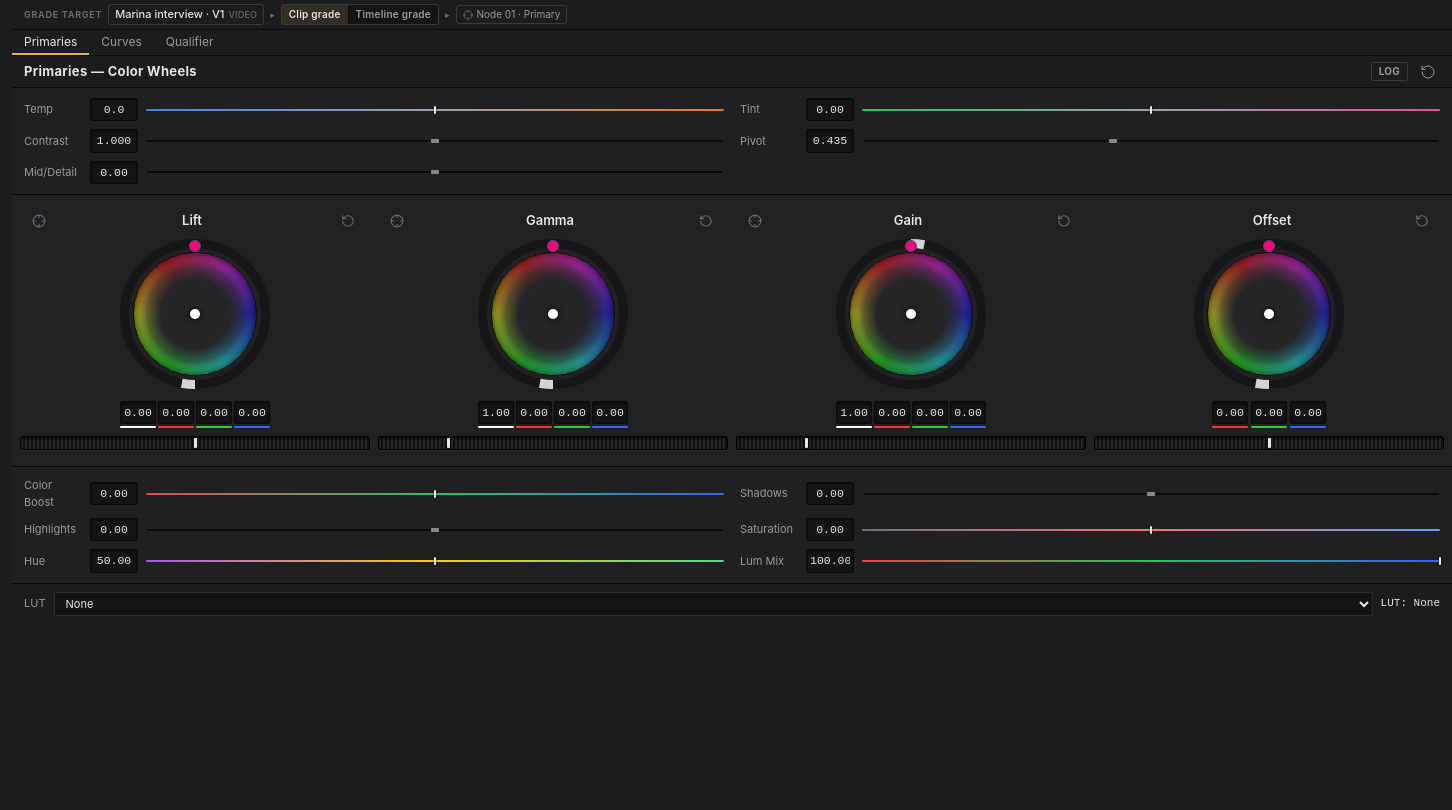
Test: ColorInspector — the tab bar (the #78 directive) › clicking a tab writes colorInspectorTab + swaps the panel
Click the tab with test id "shell-color-inspector-tab-curves". click: (122, 42)
box: left=89, top=30, right=154, bottom=55
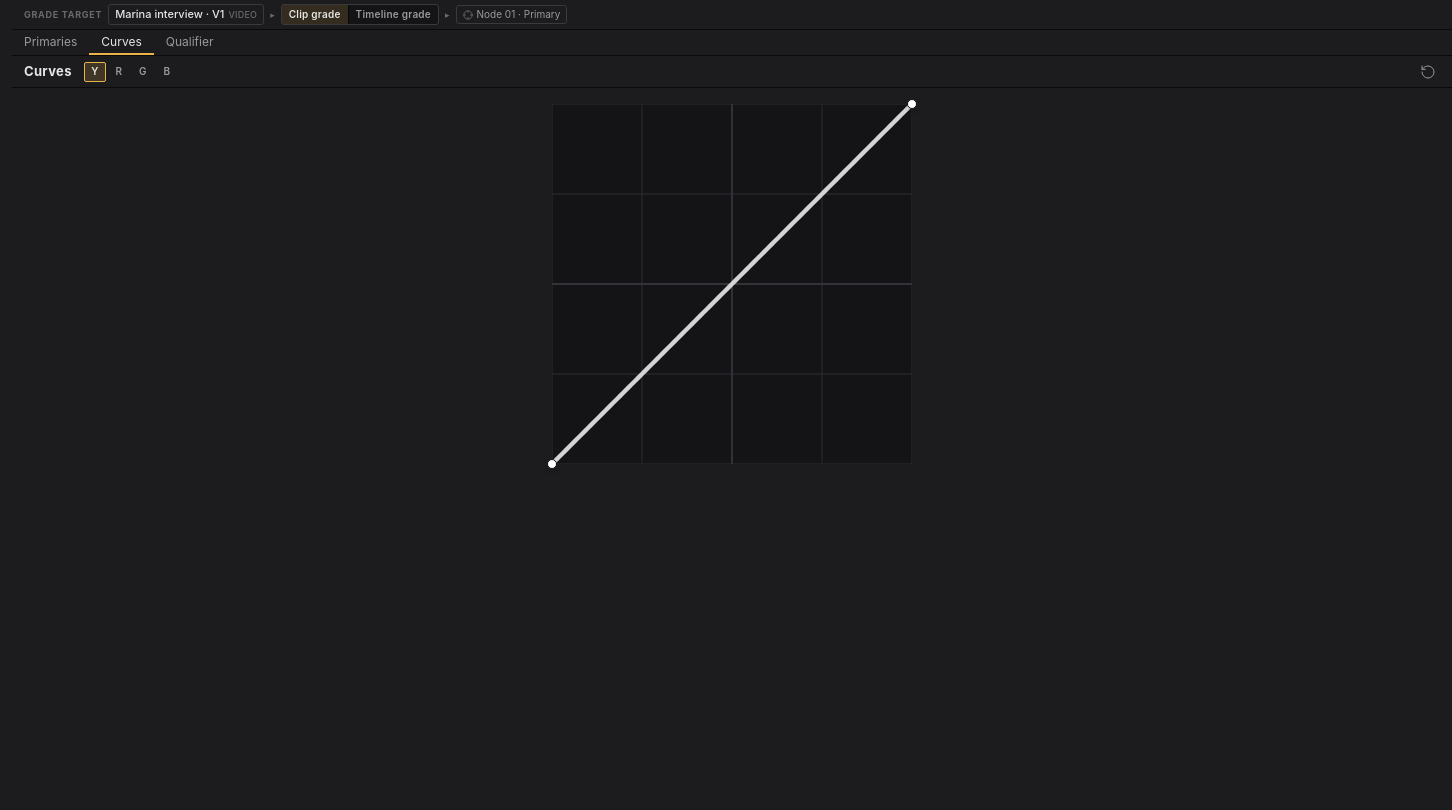
Check: the panel "Curves" is shown, box left=12, top=56, right=1451, bottom=480
